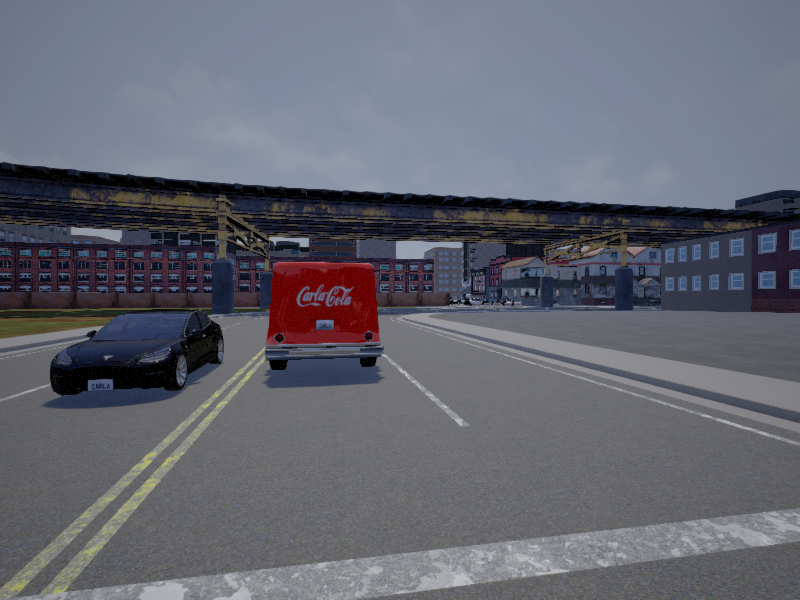Benign: (51, 313, 224, 391), (264, 262, 383, 368)
